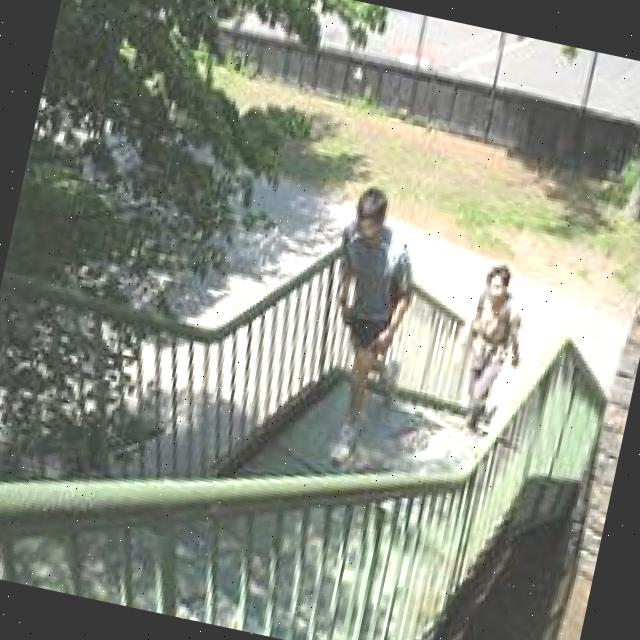stairs: (0, 272, 611, 640)
